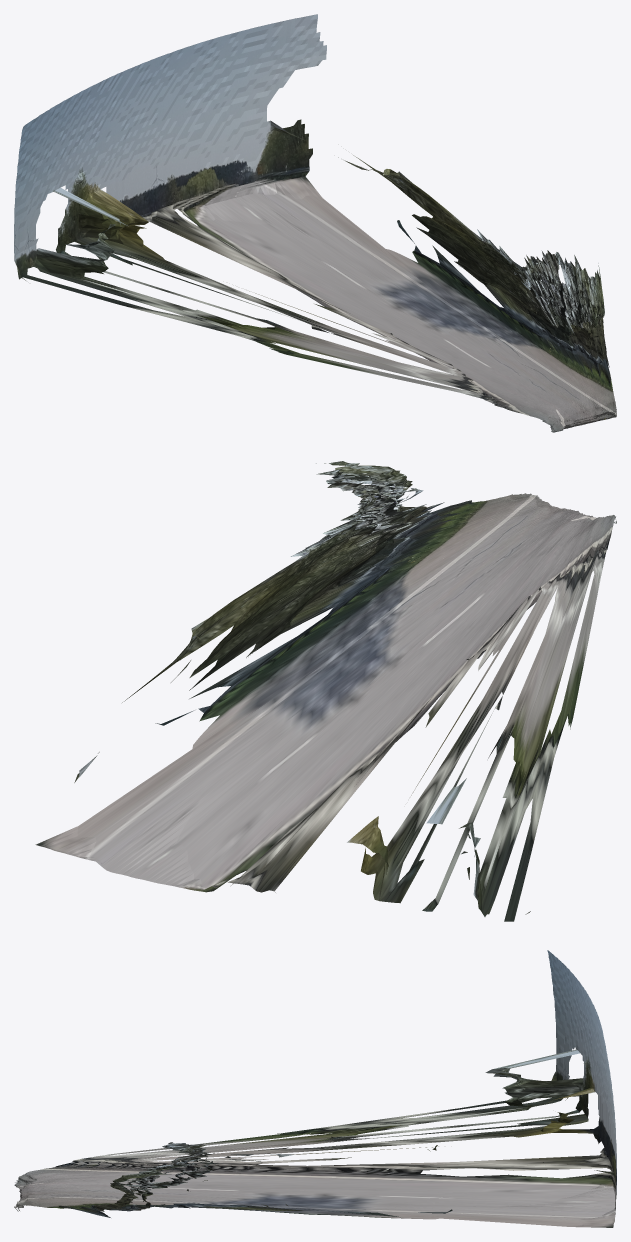
The picture shows the model from 3 angles, top to bottom: view 1: azimuth 30°, elevation 25°; view 2: azimuth 150°, elevation 25°; view 3: azimuth 270°, elevation 25°; orthographic projection. The views are drawn at different scales.
Parts seen in each view (by area): view 1: defaultobject; view 2: defaultobject; view 3: defaultobject.
Part boxes in pixels (x1,y1,x2,y2): defaultobject: [14, 14, 616, 432]; defaultobject: [35, 461, 616, 921]; defaultobject: [14, 950, 616, 1227].
Bounding box in the file's own units: 28.29 × 12.78 × 44.5.
1 material, 1 textured.
